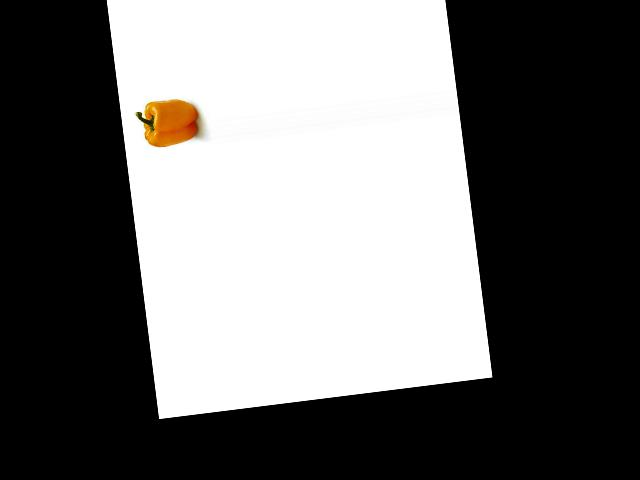bell_pepper: (131, 90, 201, 150)
